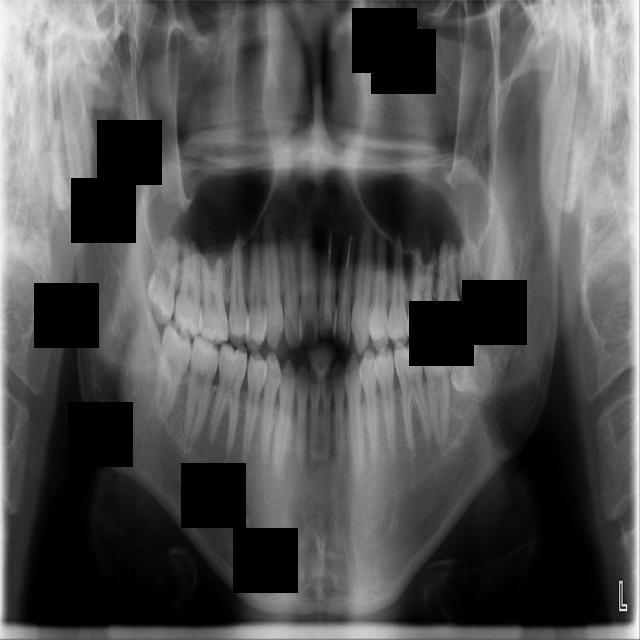3M ESPE Implant: (142, 235, 183, 327)
52: (331, 303, 353, 350), (319, 298, 337, 340)
73: (318, 227, 338, 300), (337, 232, 356, 308), (602, 590, 605, 596)
BioHorizons Implant: (433, 235, 467, 345)
BioLife Implant: (457, 239, 488, 333)
Biomet 3i Implant: (447, 327, 497, 401)
Blue Sky Bio Implant: (422, 336, 452, 446)
Caries: (170, 234, 203, 341)
Implant: (171, 331, 226, 444)
Keystone Dental Implant: (152, 318, 196, 420)
